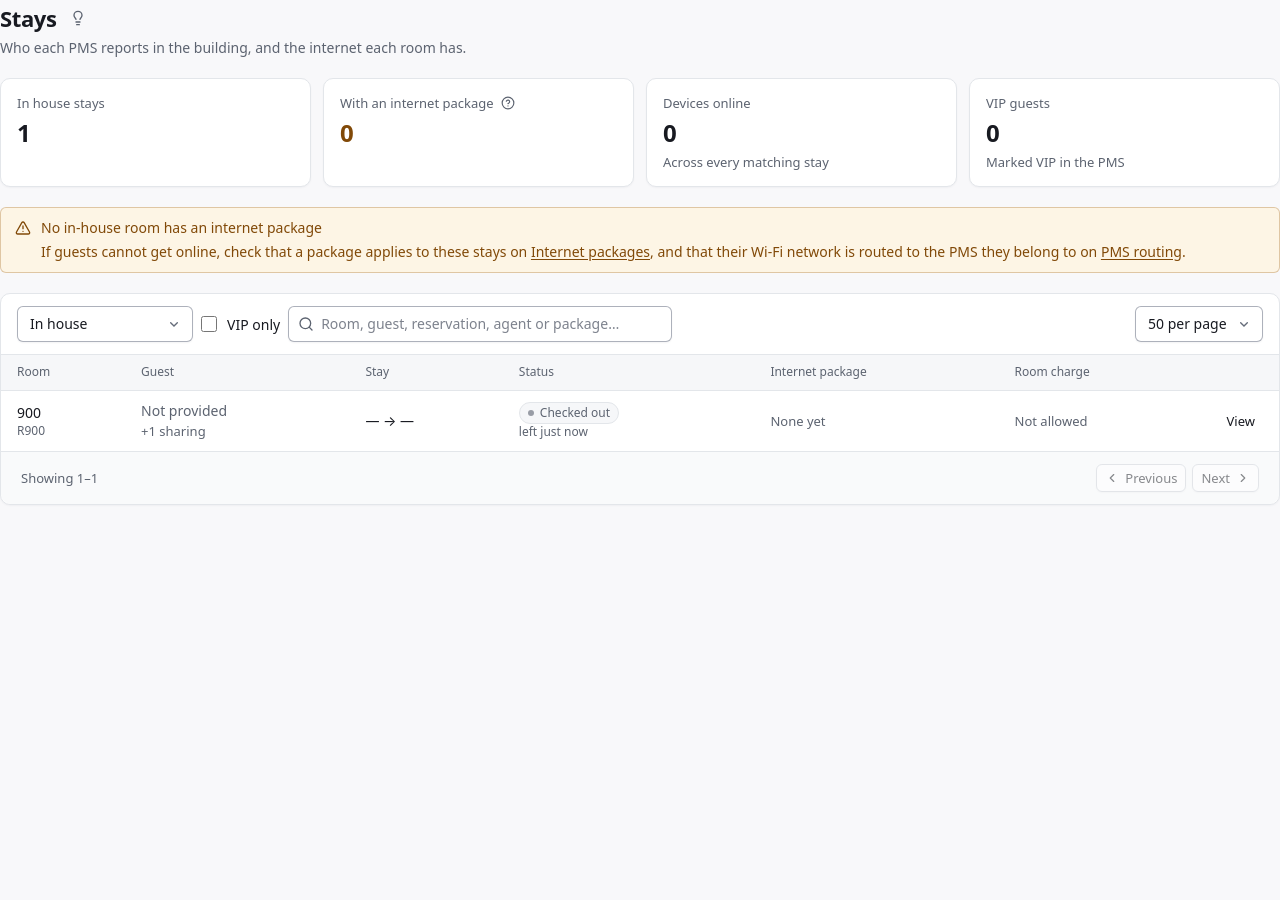
Scenario: Stays page › shows a stay with its guest, dates and sharing count, and opens details
Expected: the text "R900" is shown, 17,422 -> 45,439
Expected: the text "+1 sharing" is shown, 141,422 -> 206,440
Click the button "View" at coordinates (1241, 421), box 1218,407 -> 1263,435
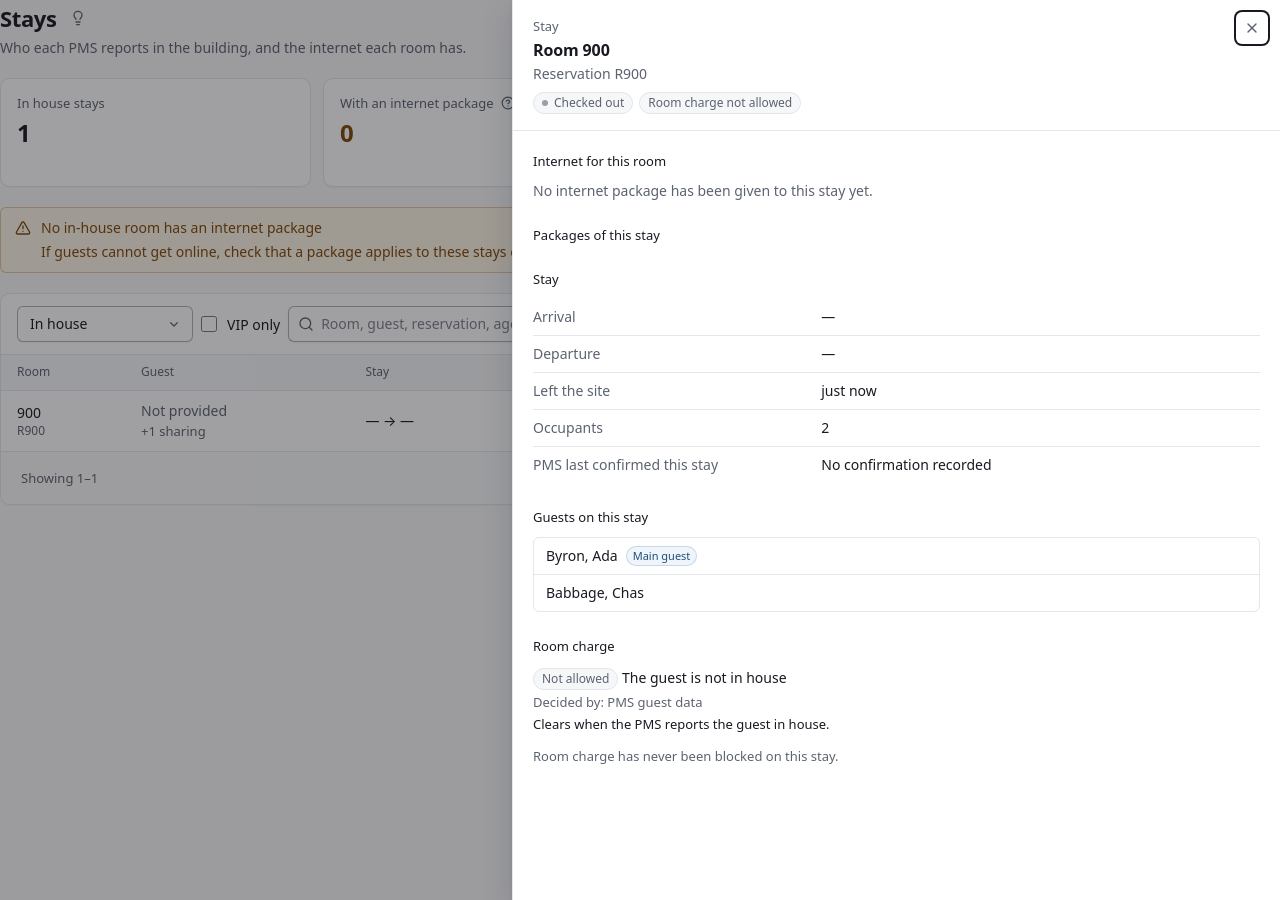
Expected: the list item "Byron, Ada" is shown, 546,546 -> 618,565
Expected: the text "Main guest" is shown, 626,546 -> 697,566
Expected: the text "The guest is not in house" is shown, 622,668 -> 787,687
